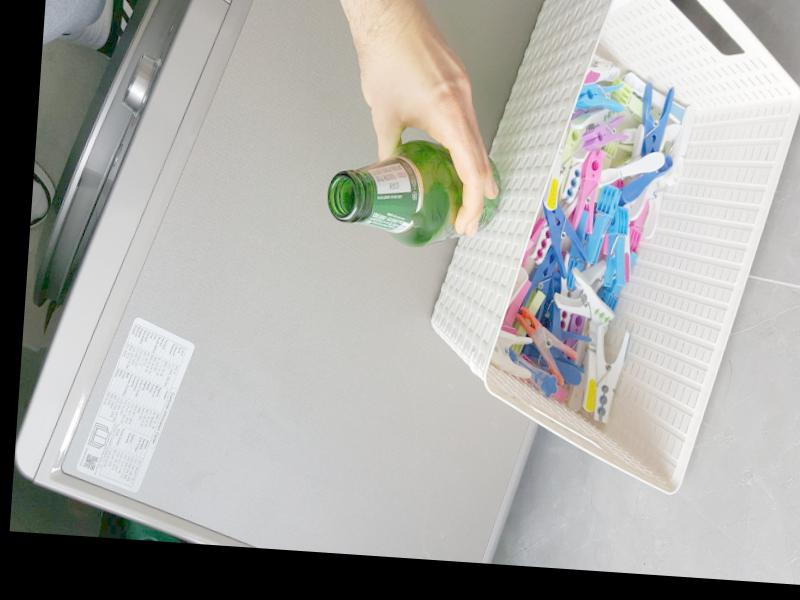Beer: (324, 135, 503, 252)
